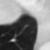node: (9, 37, 18, 43)
